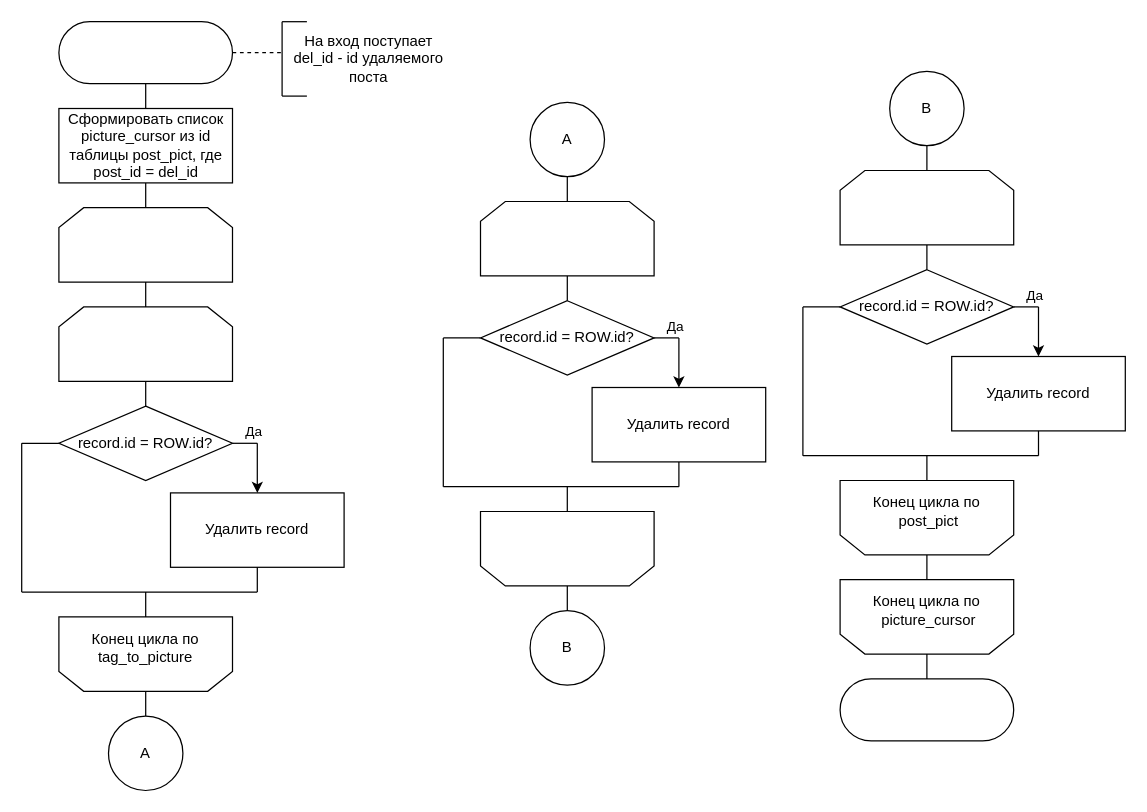
This 1147x812 diagram has some shape labels left out. The centre of each missing label's shape, as x and y in pixels:
"record in picture_to_post" goes at point 566,238.
"record in post_pict" goes at point 926,207.
"record in tag_to_picture" goes at point 145,343.
"ROW in picture_cursor" goes at point 145,244.
"Конец delete_picture_post_id" goes at point 926,709.
"Конец цикла по picture_to_post" goes at point 566,548.
"Начало delete_picture_post_id" goes at point 145,52.
